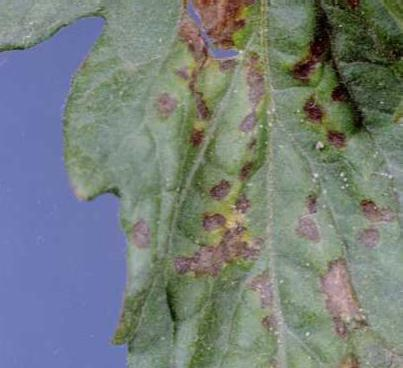Tomato leaf bacterial spot: (28, 0, 403, 368)
